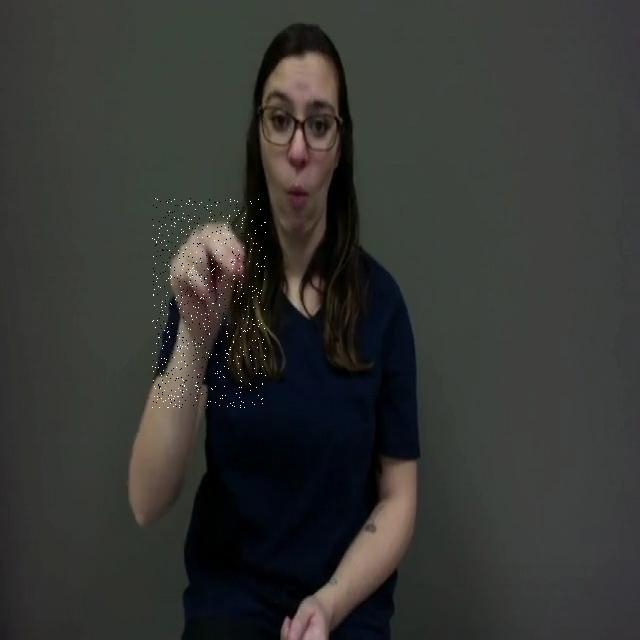no: (152, 198, 266, 408)
